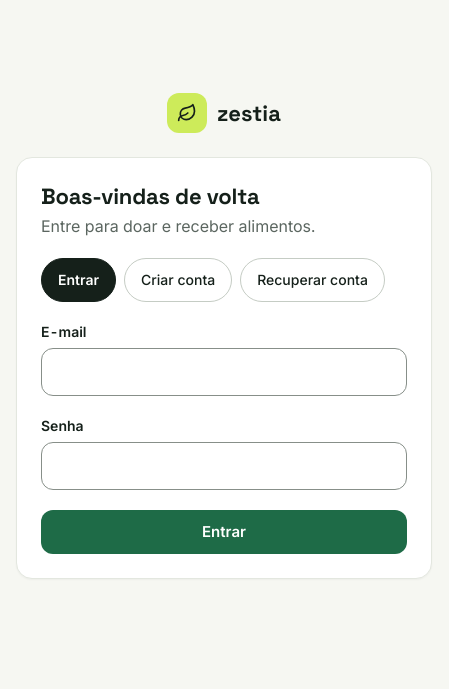
Test case: recuperação exibe indisponibilidade e confirma token sem fingir envio de e-mail
expect the heading "Boas-vindas de volta" is shown: met, box x1=41 y1=182 x2=260 y2=210
Click the button "Recuperar conta" at (313, 280), box x1=240 y1=258 x2=385 y2=302
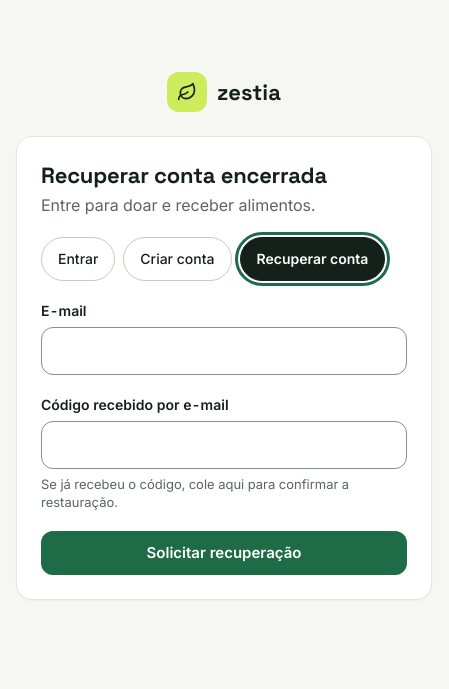
Type "closed@example.test" into the field labelled "E-mail" at (224, 351), box x1=41 y1=327 x2=407 y2=375
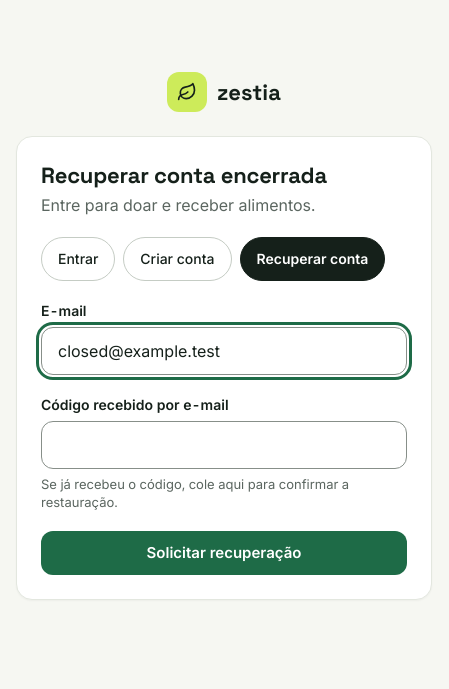
Click the button "Solicitar recuperação" at (224, 553), box x1=41 y1=531 x2=407 y2=575
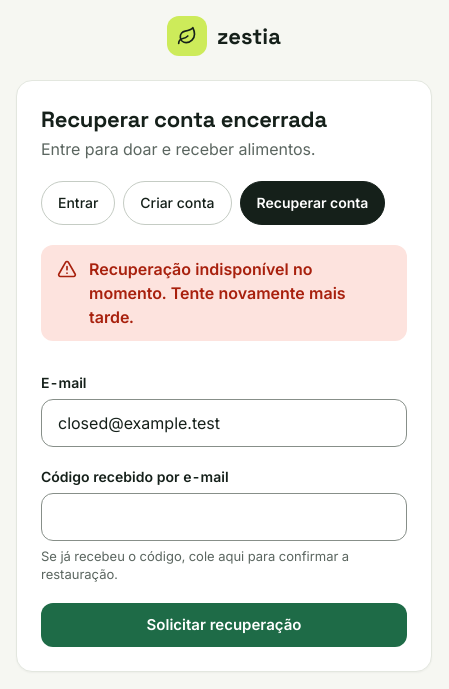
expect the text "Recuperação indisponível" is shown: met, box x1=89 y1=259 x2=346 y2=327
Type "synthetic-recovery-code" into the field labelled "Código recebido por e-mail" at (224, 517), box x1=41 y1=493 x2=407 y2=541
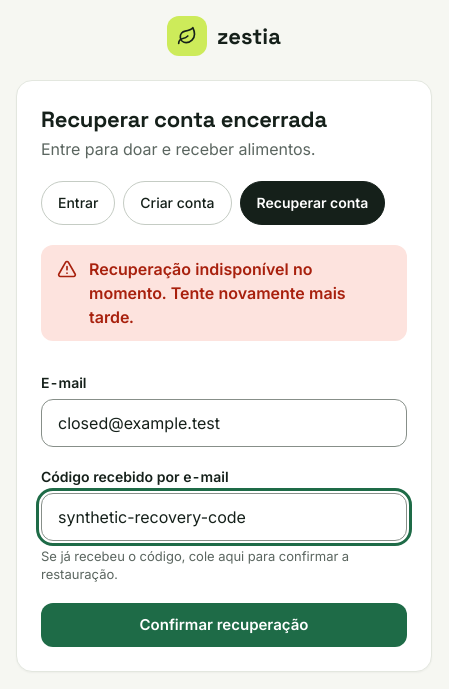
Click the button "Confirmar recuperação" at (224, 625), box x1=41 y1=603 x2=407 y2=647
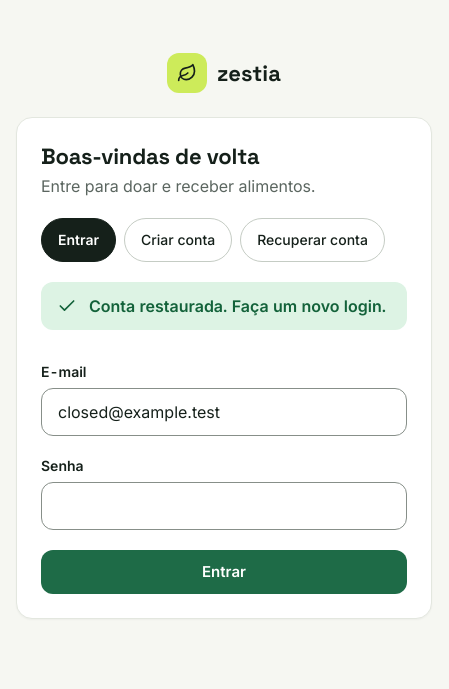
expect the text "Conta restaurada. Faça um novo login." is shown: met, box x1=89 y1=294 x2=386 y2=318
